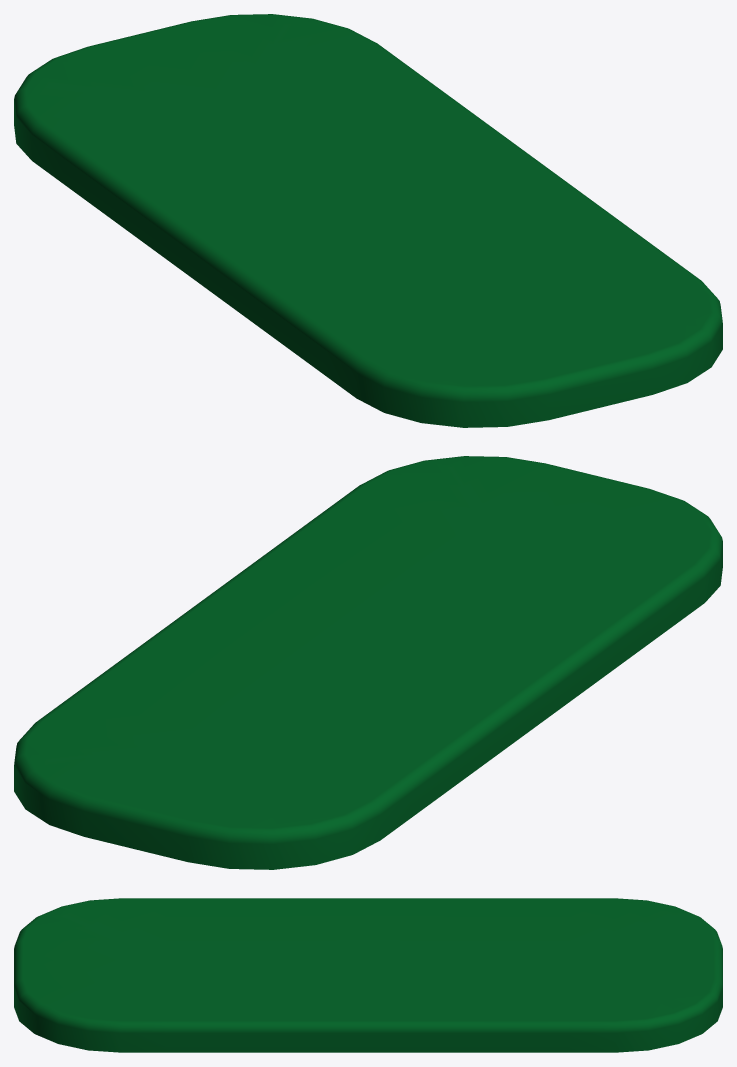
The model's file is Table_4x.fbx.
The picture shows the model from 3 angles, top to bottom: view 1: azimuth 30°, elevation 25°; view 2: azimuth 150°, elevation 25°; view 3: azimuth 270°, elevation 25°; orthographic projection. The views are drawn at different scales.
Parts seen in each view (by area): view 1: Table_4x; view 2: Table_4x; view 3: Table_4x.
Part boxes in pixels (x1,y1,x2,y2): Table_4x: [14, 14, 722, 427]; Table_4x: [14, 456, 722, 869]; Table_4x: [14, 898, 722, 1052].
Size of the model in its own units: 26.72 by 2.68 by 61.78.
